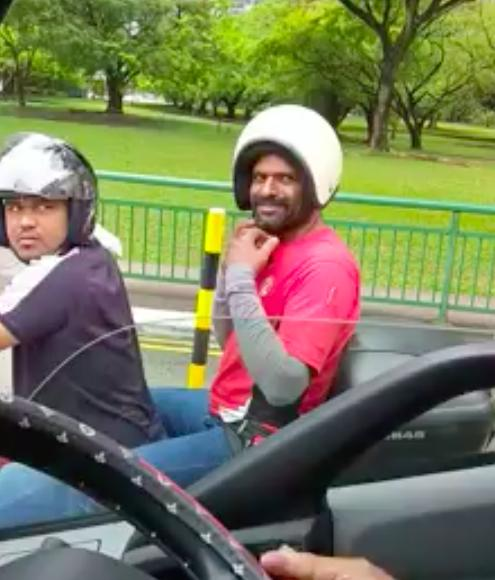Helmet: (232, 105, 343, 210)
